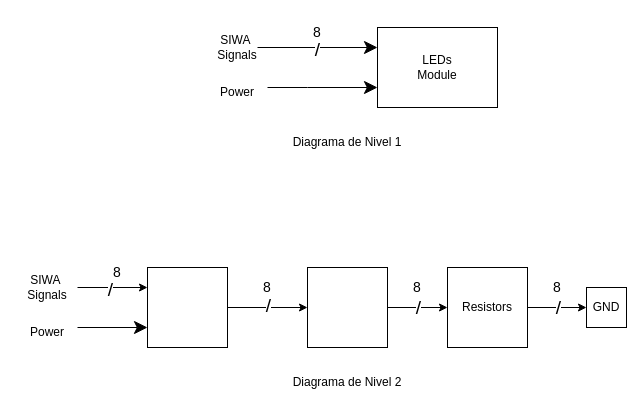
This 644x414 diagram has some shape labels left out. The shapes that lost their labels are listed below. From the top down, each one's box as (x1, y1, x2, y2) in pixels, then its label:
(146, 266, 228, 348): Buffers
(306, 266, 388, 348): LEDs
